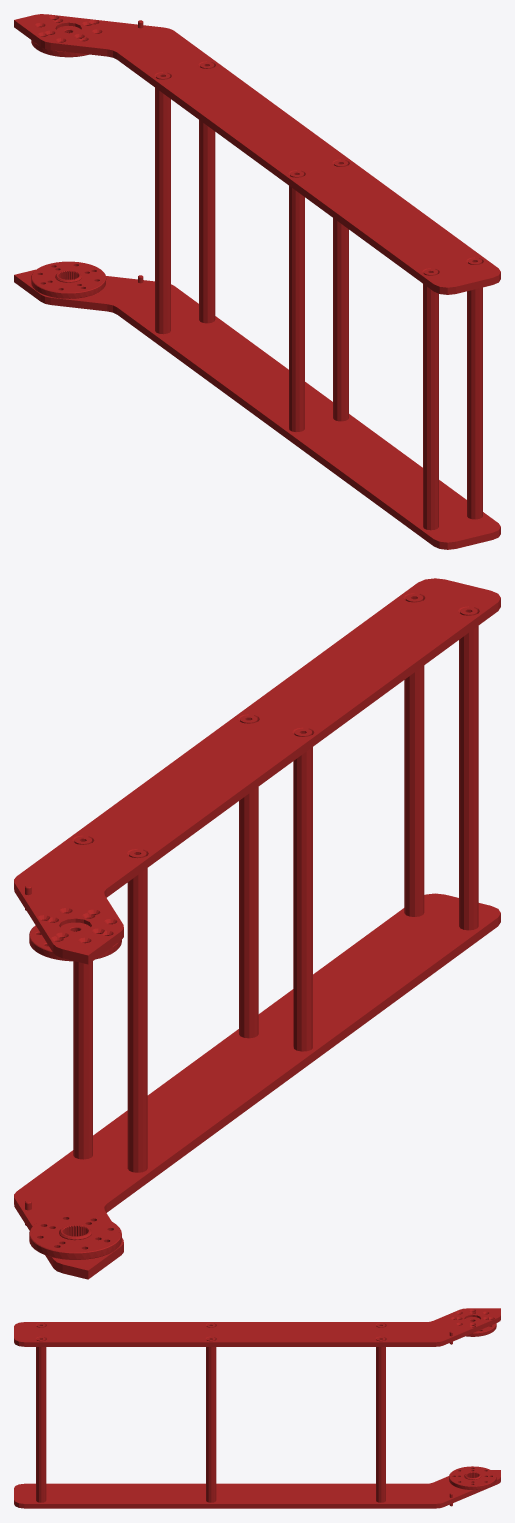
Rendered from tray_pitch_link.dae.
3 views of the same model, one above another, from view 1: azimuth 30°, elevation 25°; view 2: azimuth 150°, elevation 25°; view 3: azimuth 270°, elevation 25° (orthographic). The views are drawn at different scales.
Visible parts, largest first — view 1: skpe18d (×9); view 2: skpe18d (×9); view 3: skpe18d (×6).
Boxes of the visible parts, box(x1,y1,x2,y2) form: skpe18d (×9): box(14, 14, 500, 549); skpe18d (×9): box(14, 578, 500, 1279); skpe18d (×6): box(14, 1308, 500, 1508).
Bounding box in the file's own units: 1.85 × 11.28 × 4.45.
